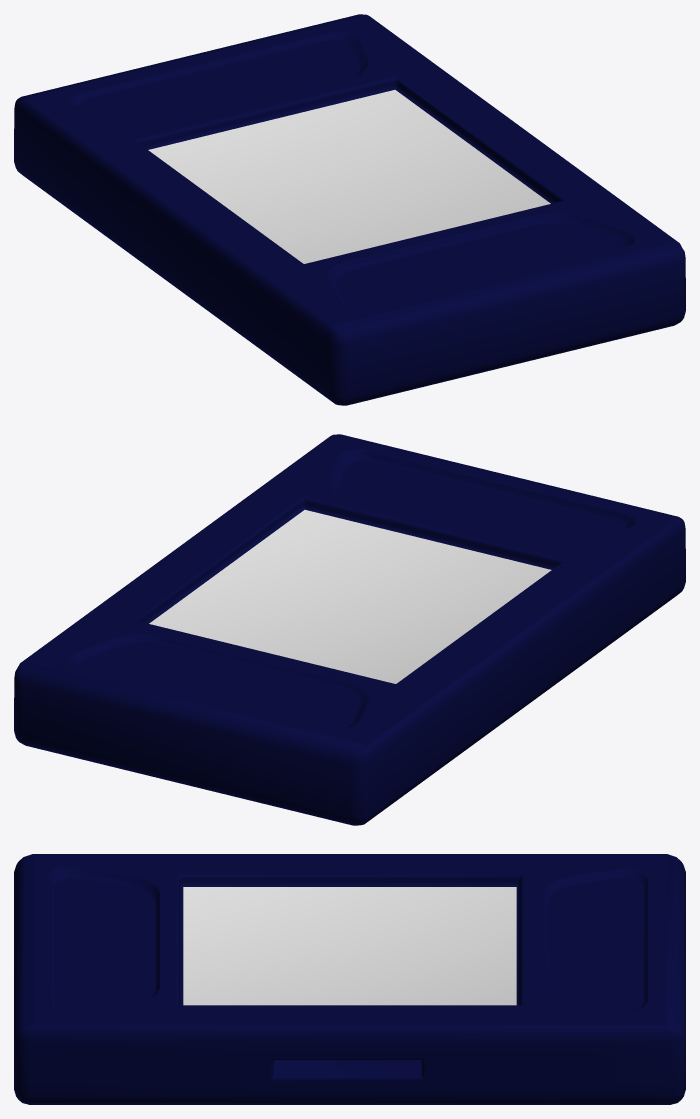
Rendered from device.fbx.
3 views of the same model, one above another, from view 1: azimuth 30°, elevation 25°; view 2: azimuth 150°, elevation 25°; view 3: azimuth 270°, elevation 25° (orthographic). The views are drawn at different scales.
Visible parts, largest first — view 1: Machine; view 2: Machine; view 3: Machine.
Part boxes in pixels (left/top/right/bottom): Machine: left=14, top=14, right=685, bottom=405; Machine: left=14, top=434, right=685, bottom=825; Machine: left=14, top=854, right=685, bottom=1104.
Bounding box in the file's own units: 229 × 49.38 × 368.
